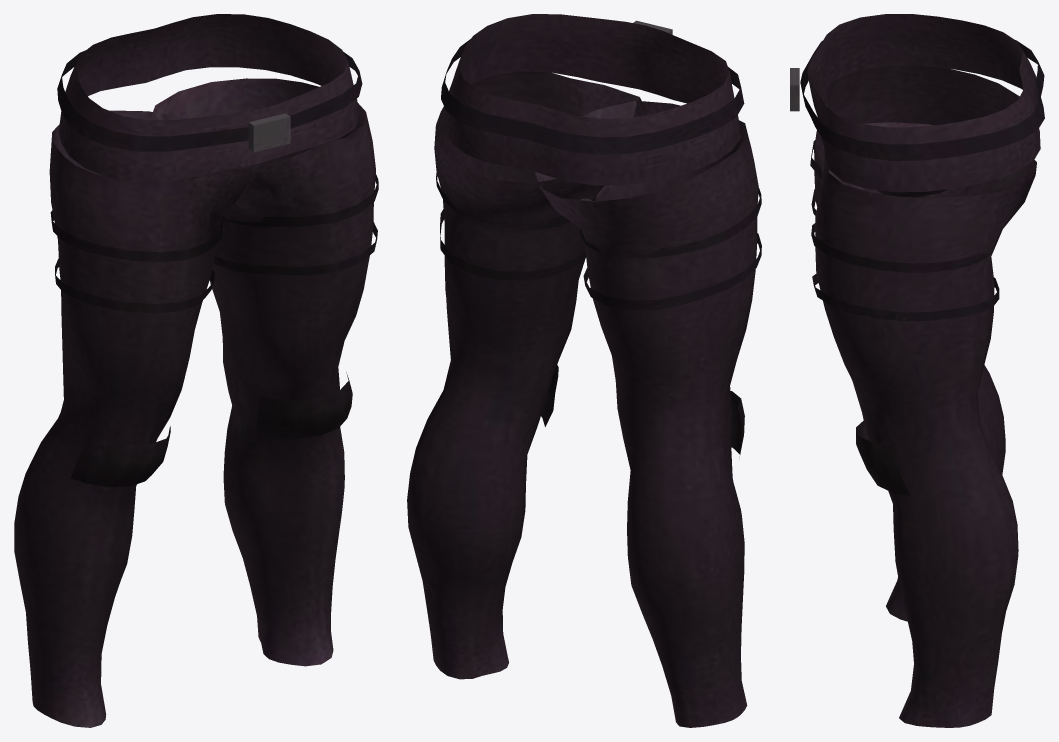
File: Calça_do_Assassino_nivel50.glb
3 views of the same model, side by side, from view 1: azimuth 30°, elevation 25°; view 2: azimuth 150°, elevation 25°; view 3: azimuth 270°, elevation 25° (orthographic). The views are drawn at different scales.
Visible parts, largest first — view 1: calca_do_assassino_nivel50; view 2: calca_do_assassino_nivel50; view 3: calca_do_assassino_nivel50.
Part boxes in pixels (left/top/right/bottom): calca_do_assassino_nivel50: left=14, top=14, right=378, bottom=727; calca_do_assassino_nivel50: left=407, top=14, right=761, bottom=727; calca_do_assassino_nivel50: left=790, top=14, right=1044, bottom=727.
Size of the model in its own units: 0.4424 by 0.8351 by 0.321.
Materials: 1 (1 with a texture image).
